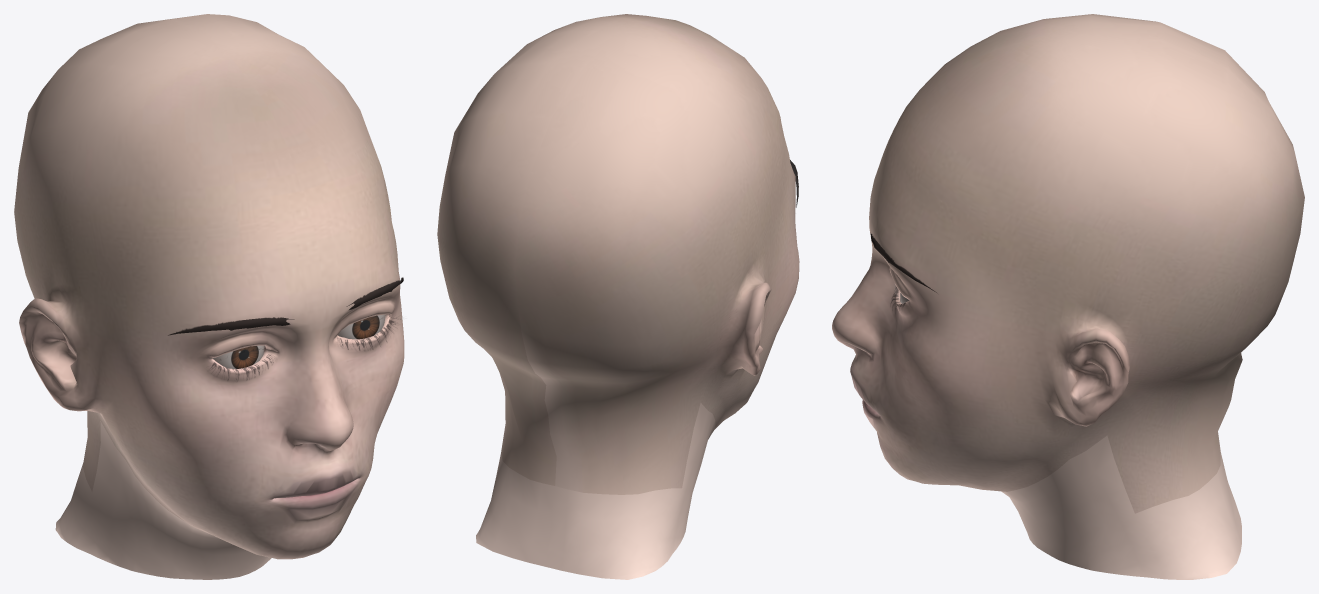
Rendered from bust_head_base.glb.
3 views of the same model, side by side, from view 1: azimuth 30°, elevation 25°; view 2: azimuth 150°, elevation 25°; view 3: azimuth 270°, elevation 25° (orthographic). The views are drawn at different scales.
Visible parts, largest first — view 1: HeadSkin, Eyes, Eyebrows, Eyelashes; view 2: HeadSkin; view 3: HeadSkin.
Part boxes in pixels (x1,y1,x2,y2): HeadSkin: (14,14,404,579); Eyes: (212,314,385,368); Eyebrows: (168,277,403,335); Eyelashes: (211,316,396,380); HeadSkin: (437,14,799,579); HeadSkin: (832,14,1304,579).
Bounding box in the file's own units: 0.1623 × 0.2323 × 0.1981.
7 materials, 6 textured.
